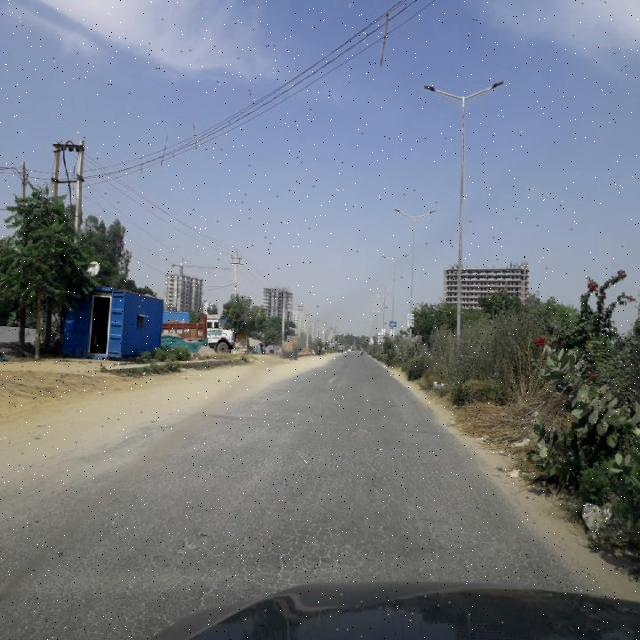D20: (78, 444, 534, 578)
